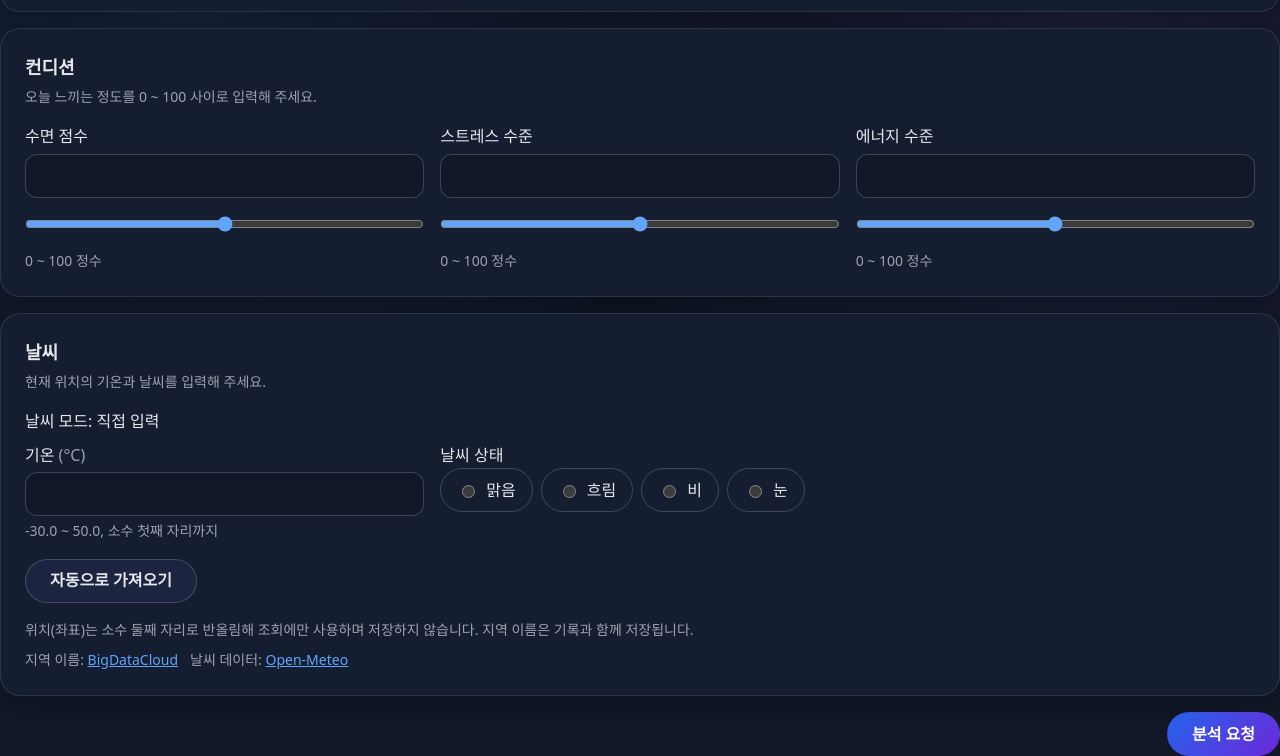
Test: CheckinPage › clears a field error when the user edits that field
The width and height of the screenshot is (1280, 756).
(page scrolled)
Click the button "분석 요청": (1224, 734) [1167, 712, 1279, 755]
(page scrolled)
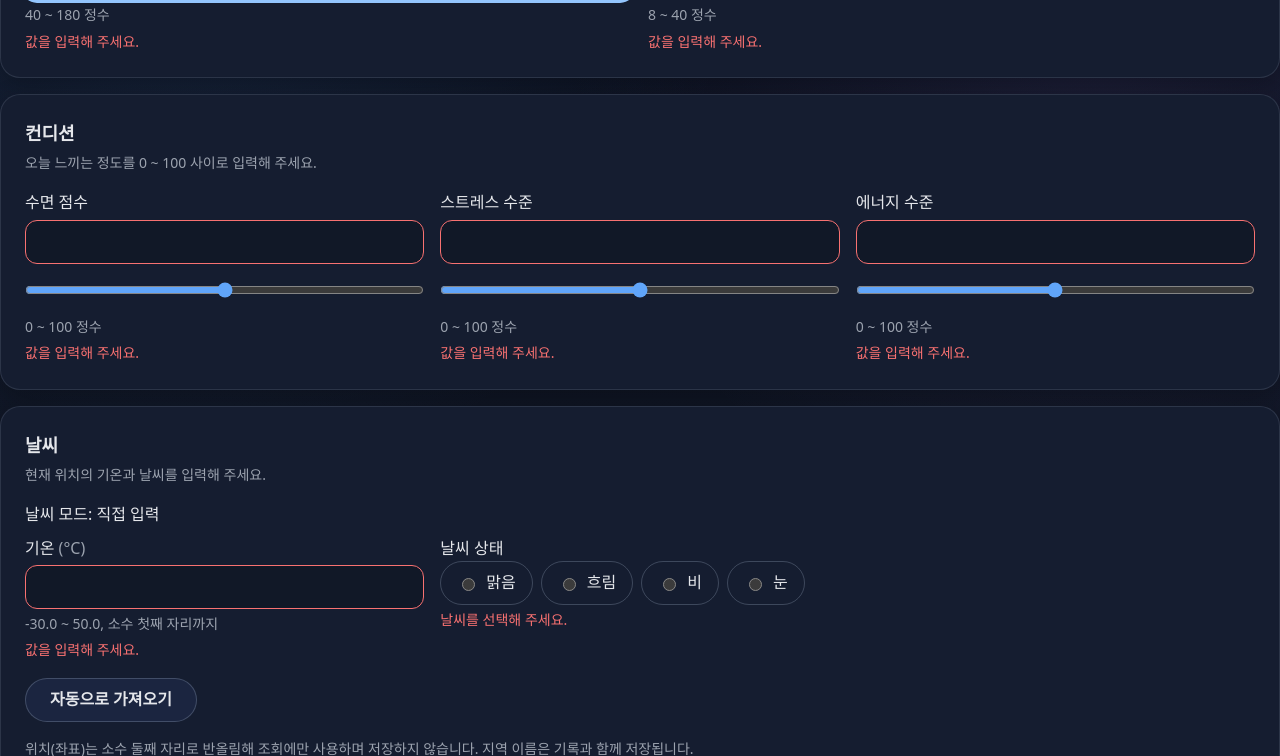
Check: the text with id "sleepScore-error" is shown, box [25, 343, 139, 362]
In the number field labelled "수면 점수": (225, 242) [25, 220, 424, 264], type "80"
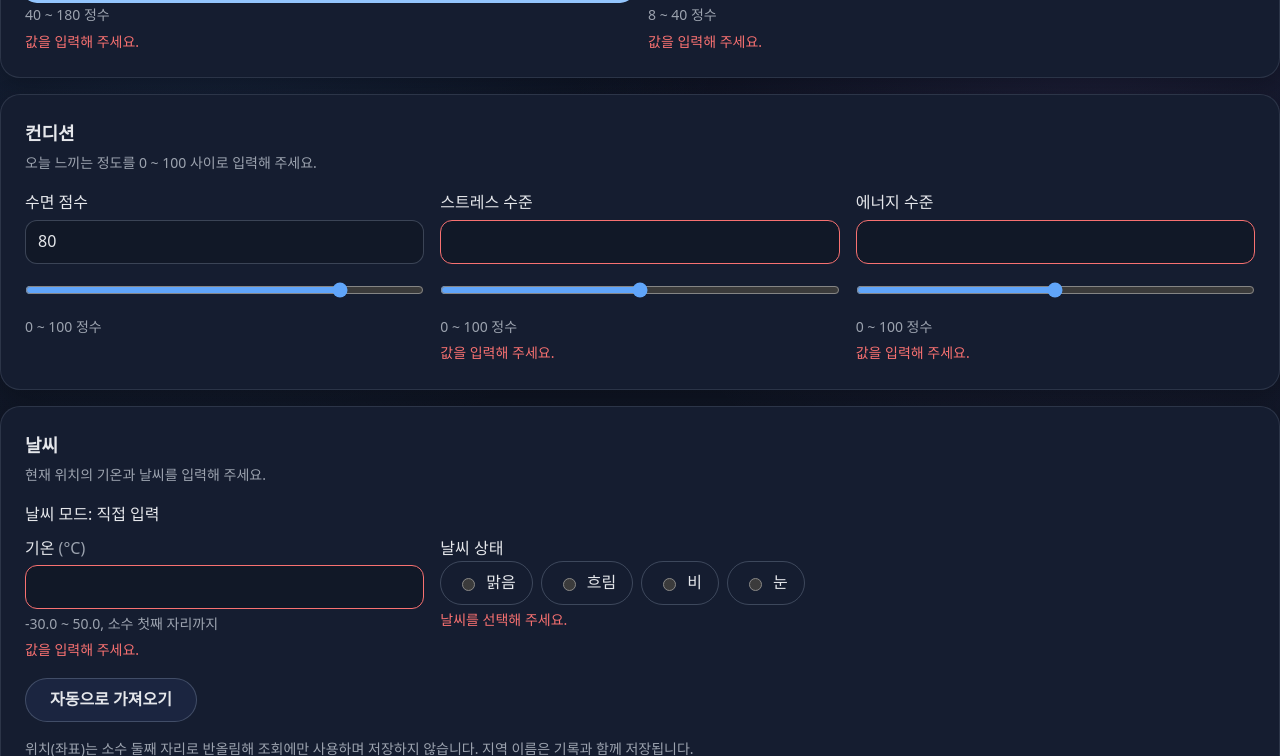
Check: the text with id "sleepScore-error" is gone
